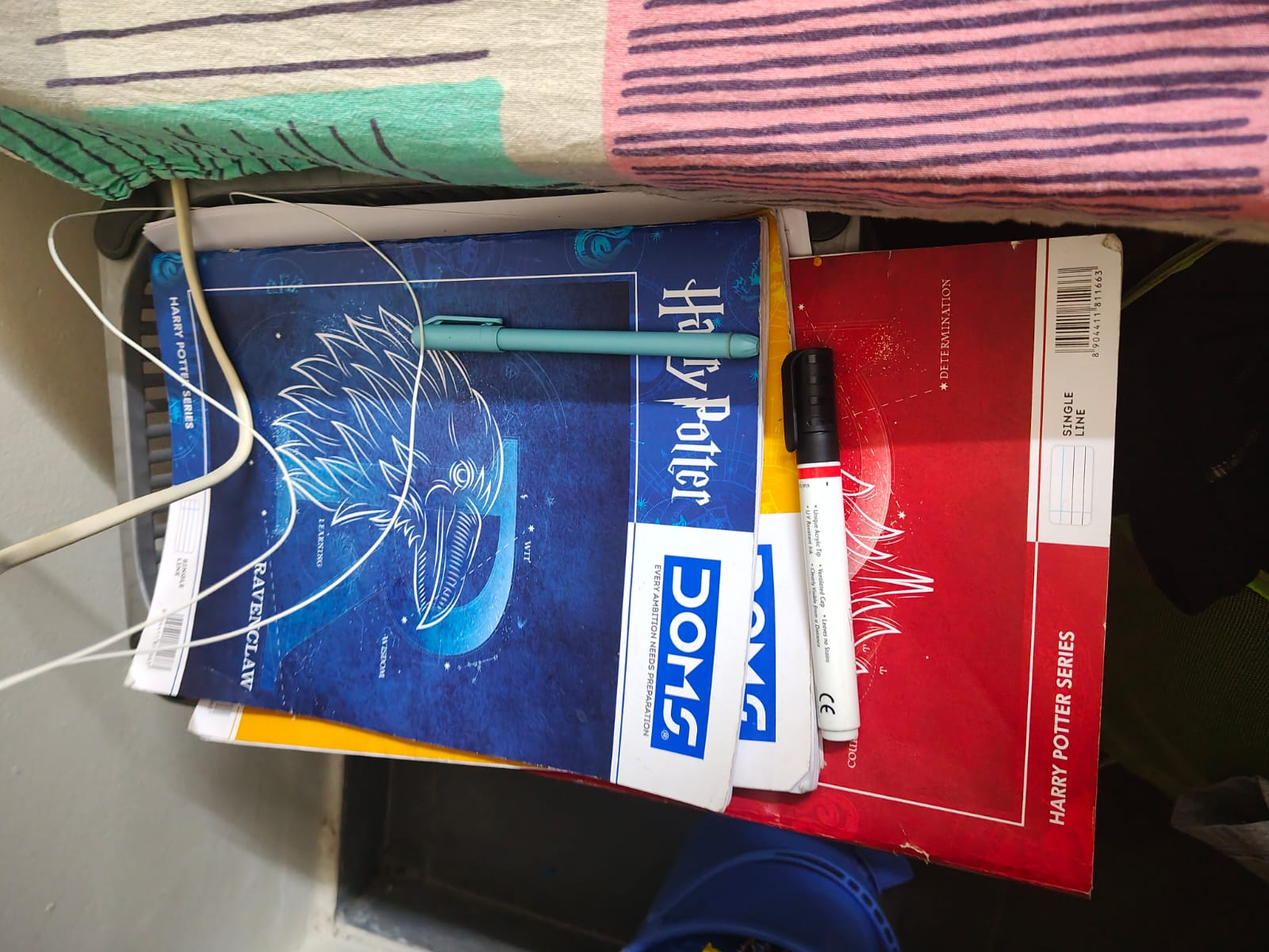case: (773, 344, 900, 753)
pen: (401, 300, 770, 387)
